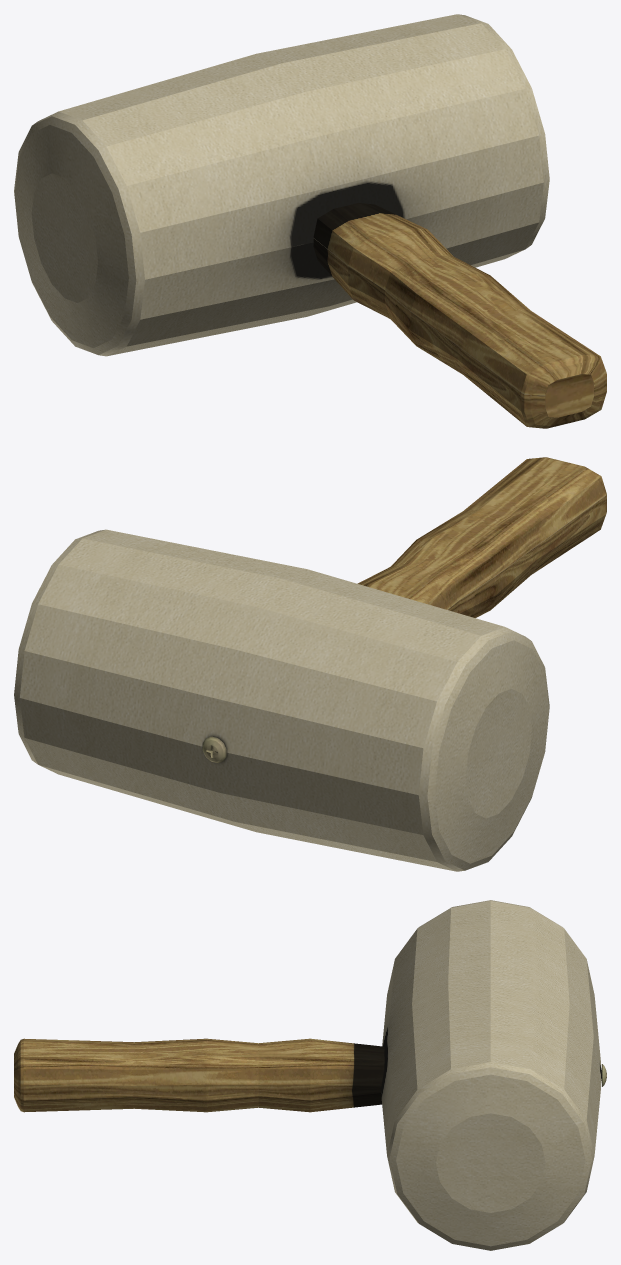
Rendered from MarteauEnfant.fbx.
3 views of the same model, one above another, from view 1: azimuth 30°, elevation 25°; view 2: azimuth 150°, elevation 25°; view 3: azimuth 270°, elevation 25° (orthographic). The views are drawn at different scales.
Parts seen in each view (by area): view 1: MarteauEnfant; view 2: MarteauEnfant; view 3: MarteauEnfant.
Boxes of the visible parts, x1,y1,x2,y2 form: MarteauEnfant: (14, 14, 606, 428); MarteauEnfant: (14, 457, 606, 871); MarteauEnfant: (14, 900, 606, 1250).
Bounding box in the file's own units: 21.03 × 11.29 × 30.04.
Materials: 1 (1 with a texture image).
